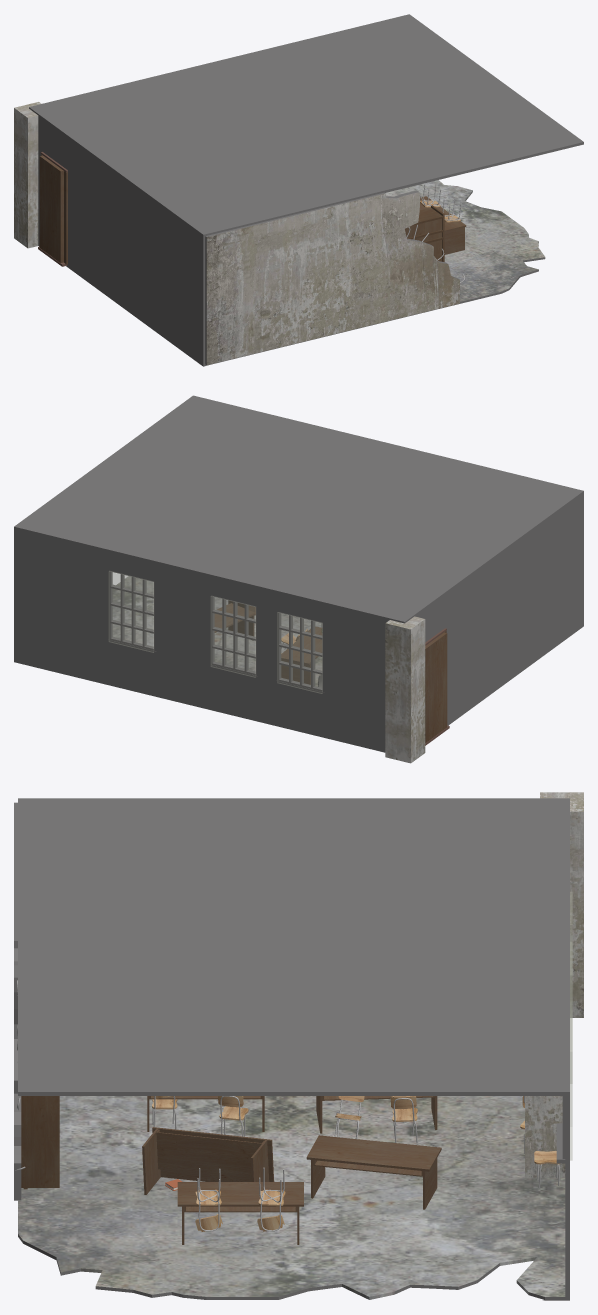
Rendered from old_abandoned_classroom.glb.
3 renders of one model, top to bottom at view 1: azimuth 30°, elevation 25°; view 2: azimuth 150°, elevation 25°; view 3: azimuth 270°, elevation 25°, orthographic. The views are drawn at different scales.
Visible parts, largest first — view 1: pCylinder51; view 2: pCylinder51; view 3: pCylinder51.
Part boxes in pixels (x1=…): pCylinder51: x1=14, y1=14, x2=583, y2=366; pCylinder51: x1=14, y1=395, x2=583, y2=763; pCylinder51: x1=14, y1=792, x2=583, y2=1300.
Bounding box in the file's own units: 14.37 × 4.63 × 11.47.
9 materials, 1 textured.
